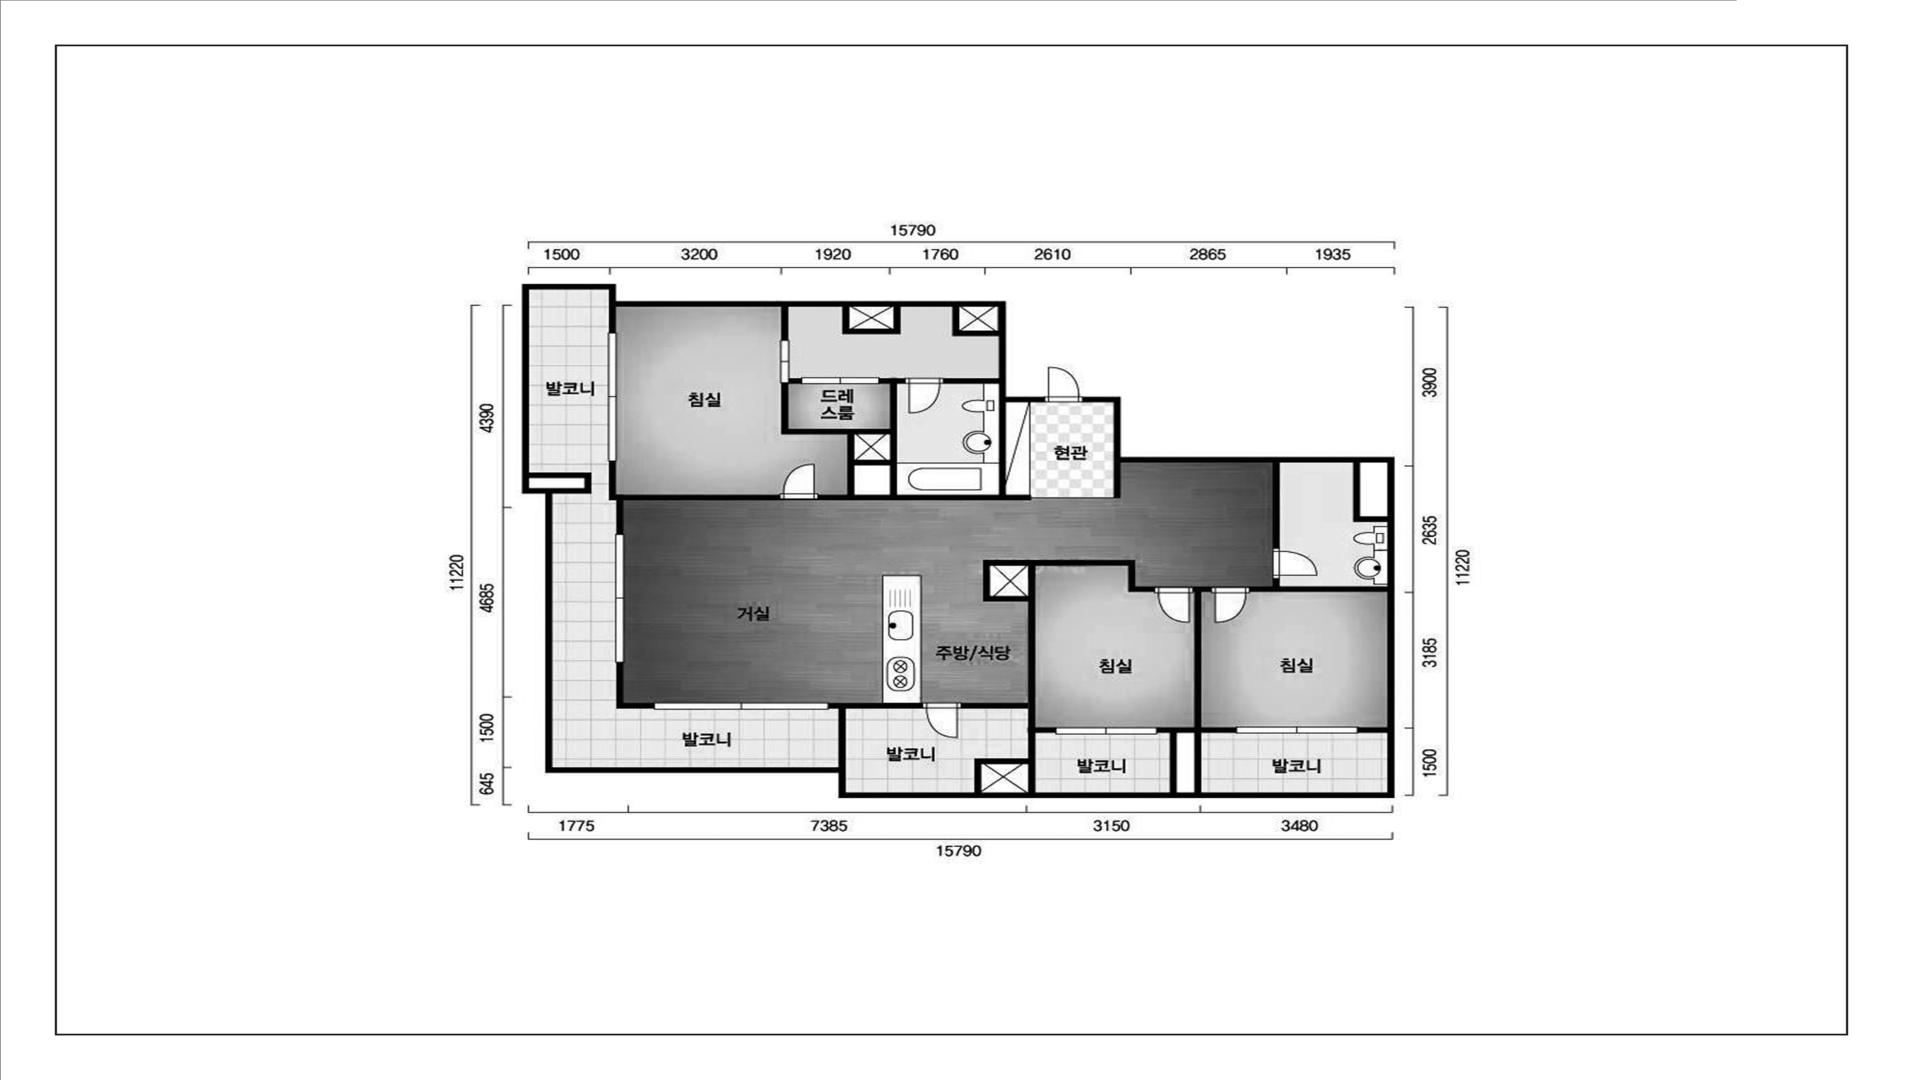door: (1211, 587, 1250, 624), (779, 463, 819, 500), (1154, 587, 1193, 624), (1044, 367, 1084, 402), (905, 378, 944, 414), (1273, 549, 1319, 579), (923, 703, 961, 738), (800, 377, 880, 385), (779, 339, 790, 384)
wall: (522, 284, 1395, 799), (961, 560, 1154, 793), (819, 378, 1031, 501), (1158, 587, 1236, 793), (609, 463, 778, 534), (781, 384, 890, 460), (829, 703, 923, 767), (982, 559, 1029, 601), (1250, 579, 1387, 592), (616, 665, 653, 709), (843, 307, 901, 334), (952, 307, 998, 336), (1273, 463, 1280, 549), (944, 378, 998, 384), (781, 307, 789, 339), (1114, 463, 1121, 498), (608, 307, 617, 332), (1360, 728, 1387, 733), (790, 378, 800, 384)
window: (608, 332, 617, 463), (616, 534, 625, 665), (653, 703, 829, 709), (1236, 727, 1360, 735), (1055, 728, 1158, 735)
